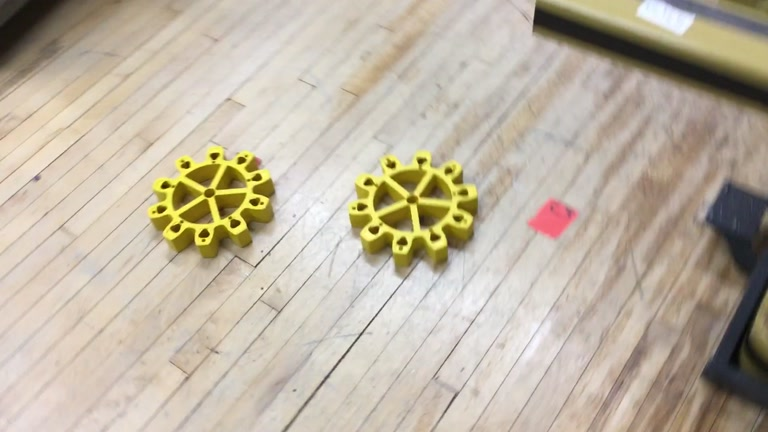gear: (347, 150, 479, 270), (148, 144, 276, 258)
